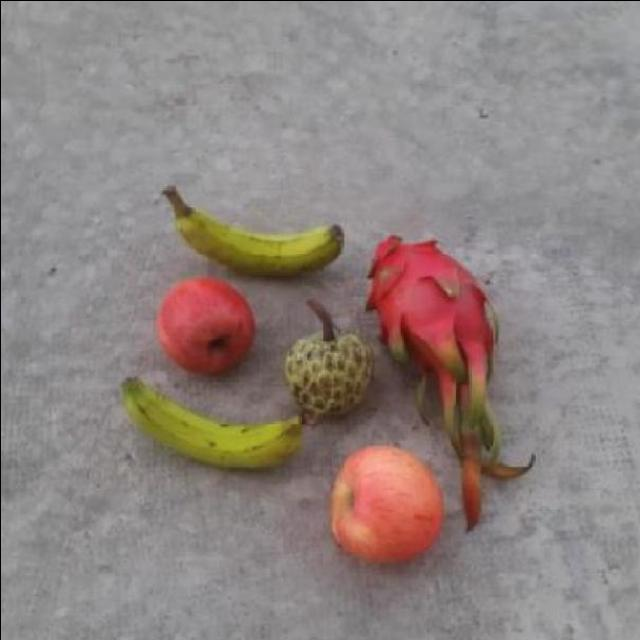apple: (323, 438, 448, 566), (149, 272, 255, 371)
banana: (120, 372, 306, 468), (175, 206, 352, 273)
dragon fruit: (360, 228, 504, 392)
sugar apple: (284, 332, 374, 418)
